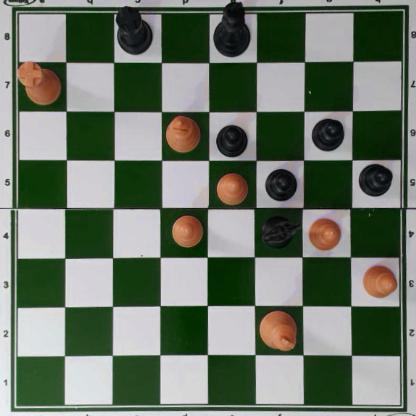black-king: (212, 0, 253, 60)
black-knight: (262, 214, 298, 249)
black-pawn: (357, 163, 392, 197), (311, 116, 345, 151), (215, 121, 248, 156), (265, 166, 296, 201)
black-rook: (113, 8, 154, 52)
white-bishop: (167, 114, 200, 153)
white-king: (258, 308, 299, 351)
white-pawn: (360, 262, 397, 299), (214, 171, 249, 204), (308, 217, 342, 250), (170, 214, 203, 247)
white-rook: (16, 63, 61, 103)
